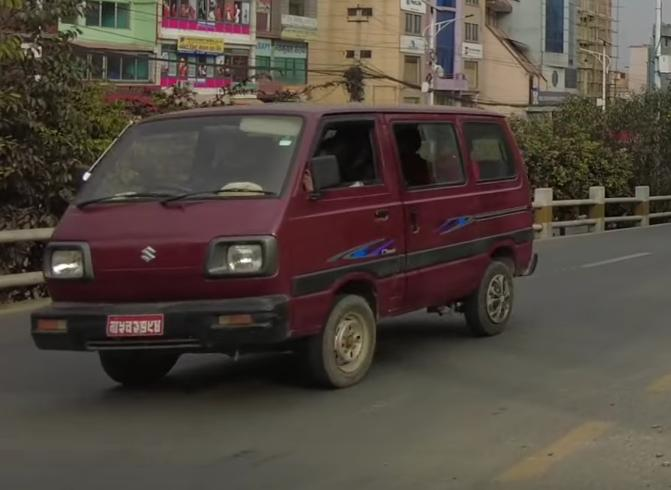van: (29, 93, 539, 393)
